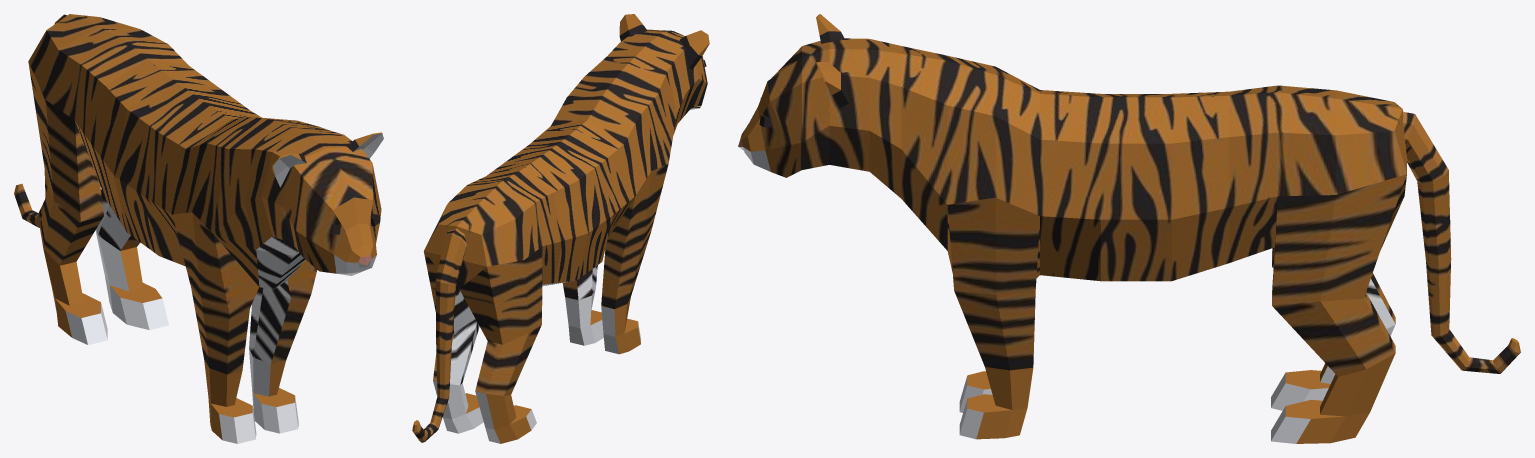
Rendered from tigre.glb.
3 views of the same model, side by side, from view 1: azimuth 30°, elevation 25°; view 2: azimuth 150°, elevation 25°; view 3: azimuth 270°, elevation 25° (orthographic). The views are drawn at different scales.
Parts seen in each view (by area): view 1: Geo_BengalTiger; view 2: Geo_BengalTiger; view 3: Geo_BengalTiger.
Boxes of the visible parts, x1,y1,x2,y2 form: Geo_BengalTiger: [14, 14, 383, 443]; Geo_BengalTiger: [412, 14, 709, 443]; Geo_BengalTiger: [738, 14, 1520, 443].
Bounding box in the file's own units: 45.11 × 123 × 230.
Materials: 1 (1 with a texture image).
